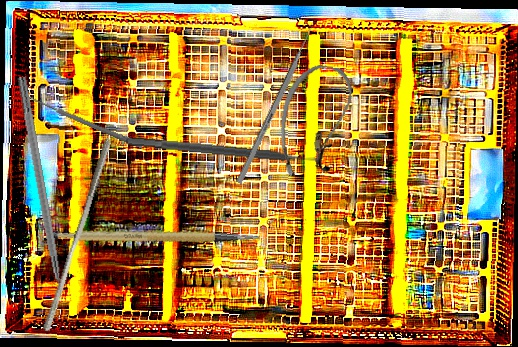Cannula: (271, 60, 357, 184)
Fixation Ring: (125, 125, 334, 174)
Hook Surgical: (15, 76, 67, 311)
Pusher: (41, 135, 113, 334), (235, 18, 319, 185)
Scalpel Handle: (46, 201, 261, 276)
Surgical Spoon: (19, 91, 144, 149)
